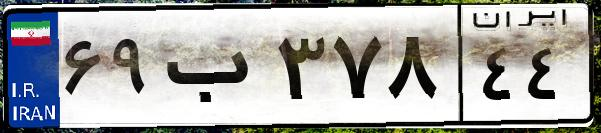3: (270, 28, 330, 110)
4: (475, 38, 525, 113), (525, 38, 570, 115)
6: (57, 26, 110, 100)
7: (330, 28, 385, 110)
8: (385, 28, 445, 110)
9: (110, 28, 158, 98)
ب: (158, 20, 270, 120)
